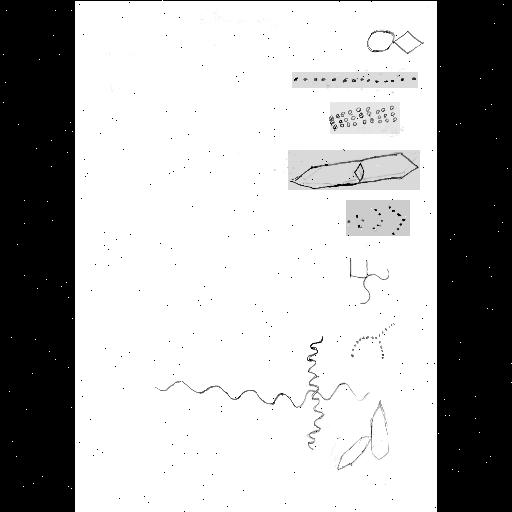shape-1: (365, 24, 423, 58)
shape-2: (292, 72, 418, 88)
shape-3: (330, 102, 400, 134)
shape-4: (346, 200, 410, 236)
shape-5: (346, 255, 392, 305)
shape-6: (348, 318, 396, 362)
shape-7: (153, 330, 371, 450)
shape-8: (336, 396, 392, 474)
shape-9: (288, 150, 420, 190)
